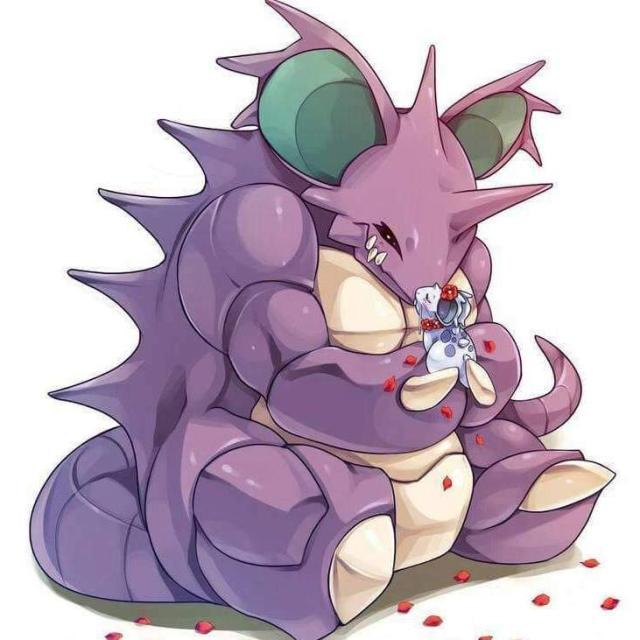Nidoking: (196, 71, 611, 640)
